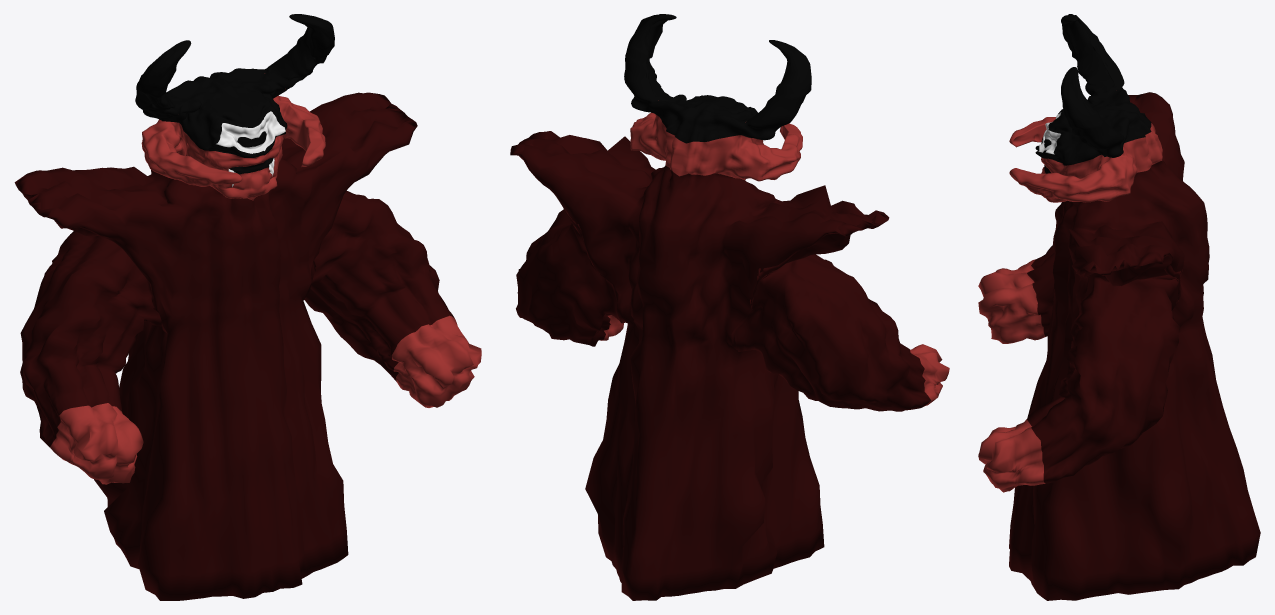
Rendered from Summoner Boss.fbx.
The picture shows the model from 3 angles, left to right: view 1: azimuth 30°, elevation 25°; view 2: azimuth 150°, elevation 25°; view 3: azimuth 270°, elevation 25°; orthographic projection. The views are drawn at different scales.
Visible parts, largest first — view 1: Summoner Boss; view 2: Summoner Boss; view 3: Summoner Boss.
Boxes of the visible parts, box(x1,y1,x2,y2) form: Summoner Boss: box(14, 14, 481, 600); Summoner Boss: box(510, 14, 949, 600); Summoner Boss: box(978, 14, 1260, 600).
Size of the model in its own units: 249 by 310 by 154.
